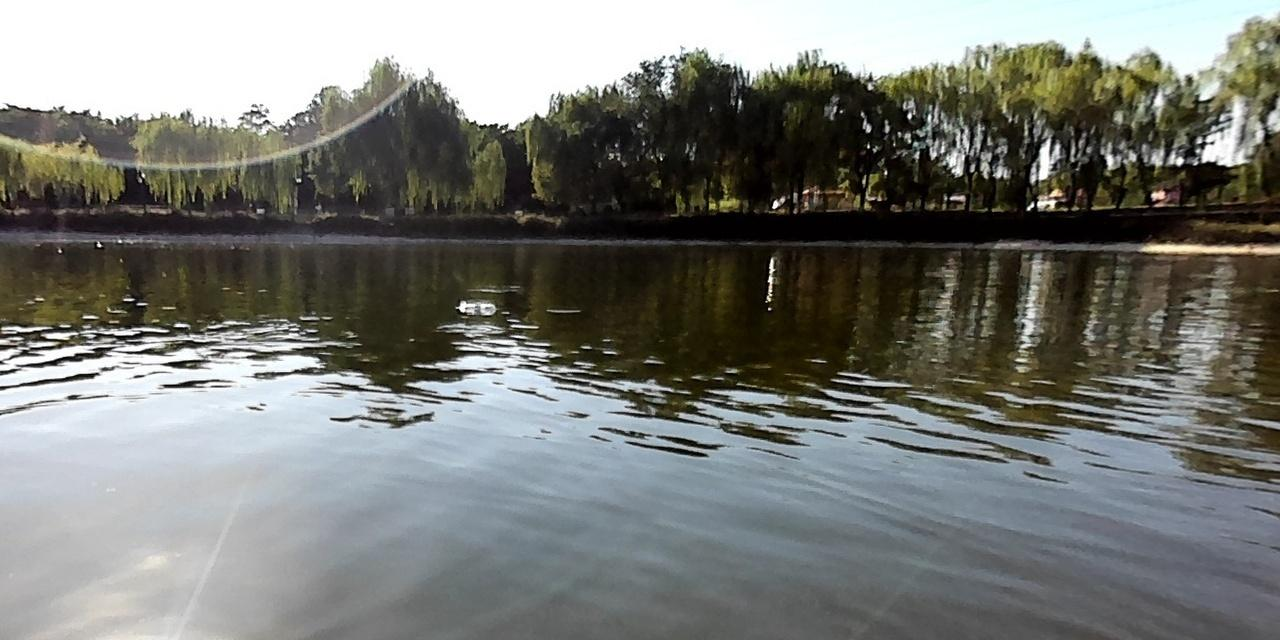bottle: (460, 301, 495, 317)
